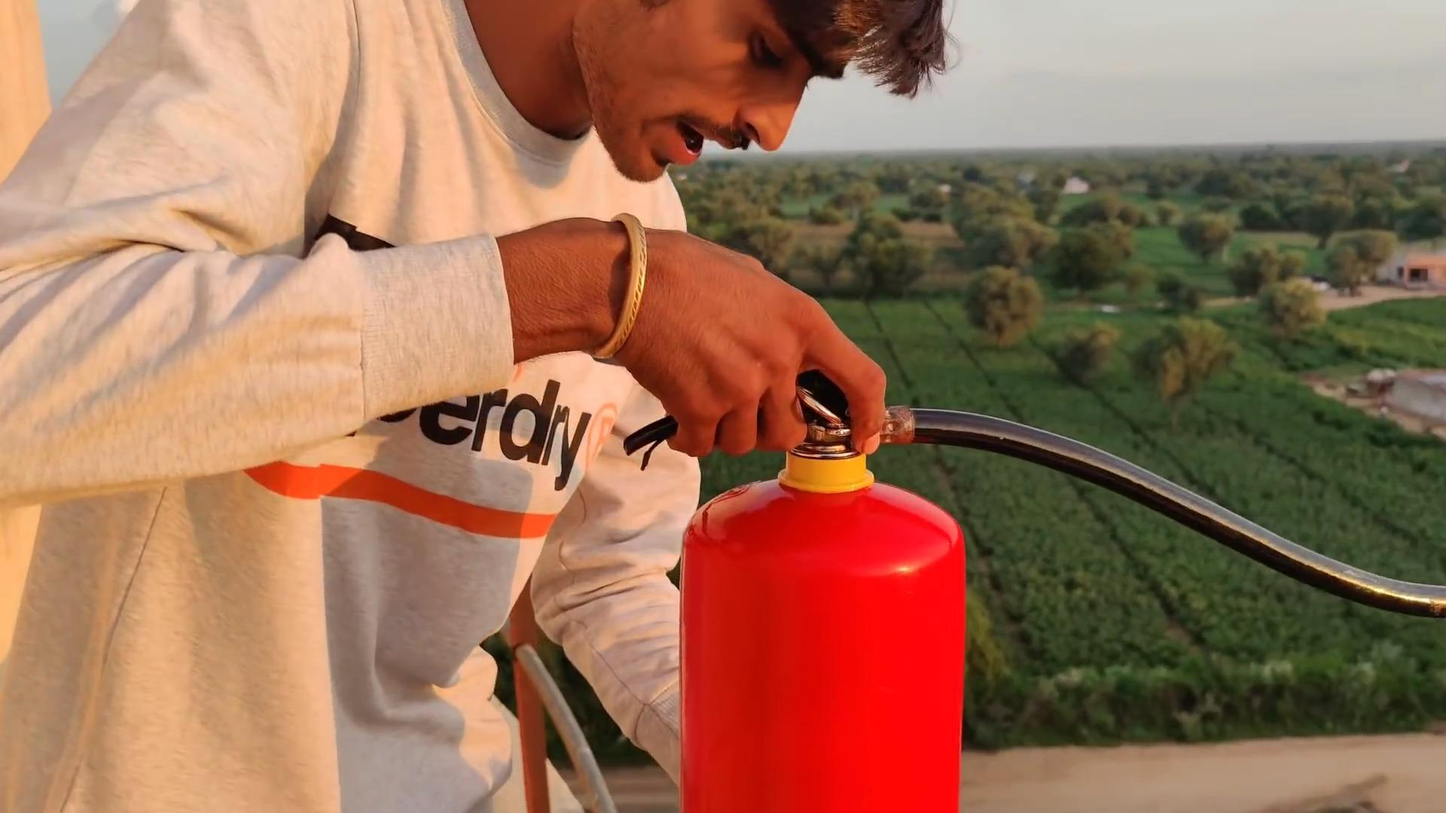FireExtinguisher: (629, 364, 996, 813)
